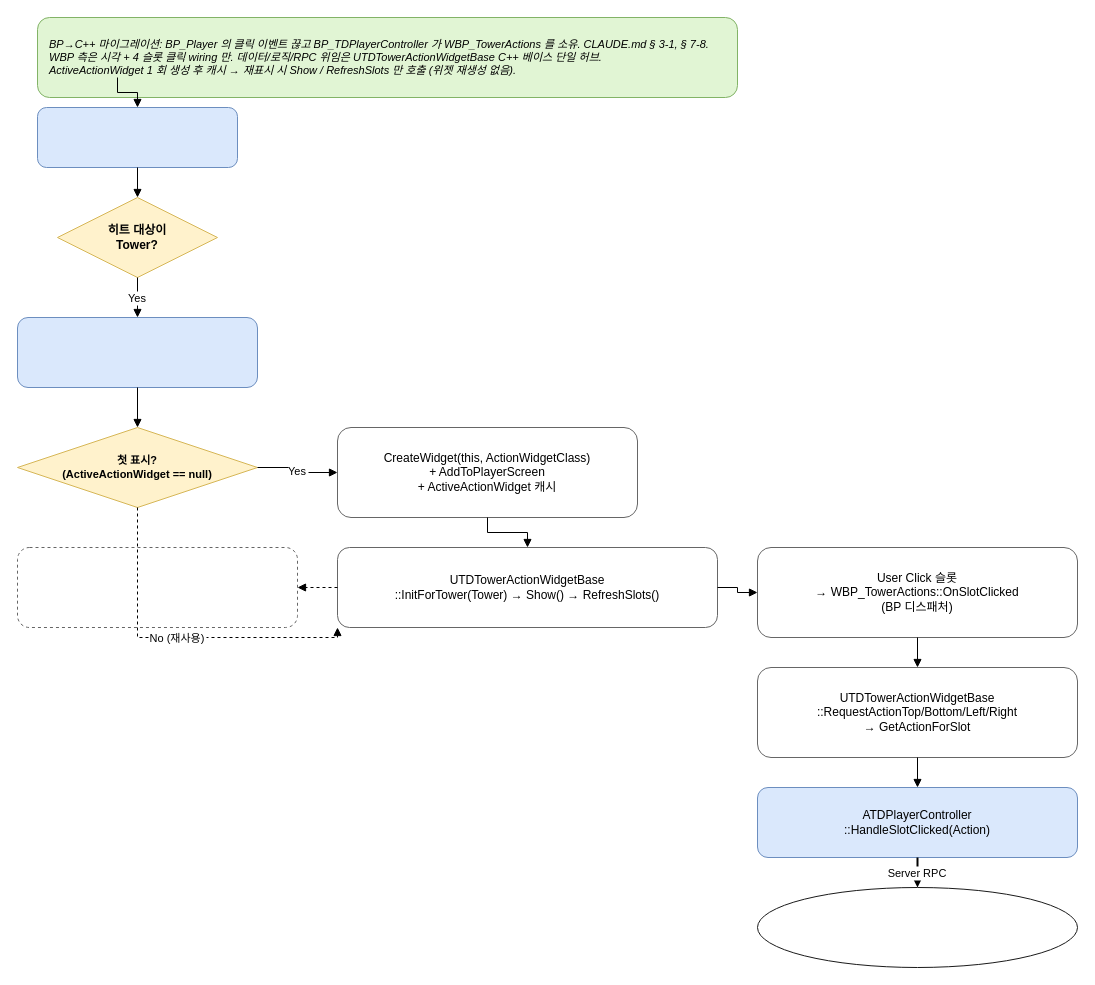
The diagram is 1095 pixels wide and 985 high, and some of its shapes have lost their labels. The centre of each missing label's shape, as x and y in pixels:
ATDPlayerController ::HandleClick: pixel 137 137
ATDPlayerController ::ShowTowerActionMenu(Tower): pixel 137 352
Server_DoTowerAction (Server RPC) → Page 5 흐름과 합류: pixel 917 927
Tower::OnDestroyed 구독 → HideTowerActionMenu (자동 닫힘): pixel 157 587
